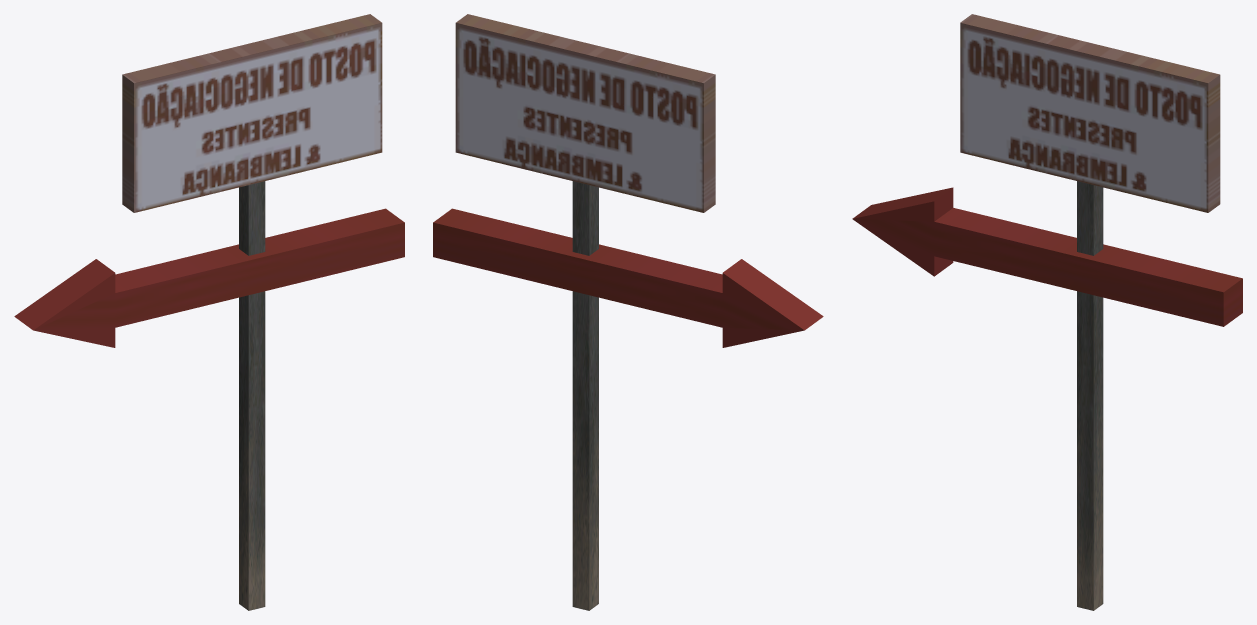
Rendered from des_indsign1.obj.
3 views of the same model, side by side, from view 1: azimuth 30°, elevation 25°; view 2: azimuth 150°, elevation 25°; view 3: azimuth 330°, elevation 25° (orthographic).
Visible parts, largest first — view 1: des_indsign1; view 2: des_indsign1; view 3: des_indsign1.
Boxes of the visible parts, x1,y1,x2,y2 form: des_indsign1: (14, 14, 404, 610); des_indsign1: (433, 14, 823, 610); des_indsign1: (852, 14, 1242, 610).
Size of the model in its own units: 5.23 by 7.49 by 0.4658.
3 materials, 3 textured.
